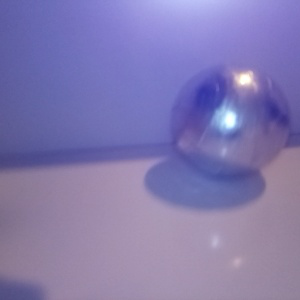alive_ball: (172, 65, 290, 177)
